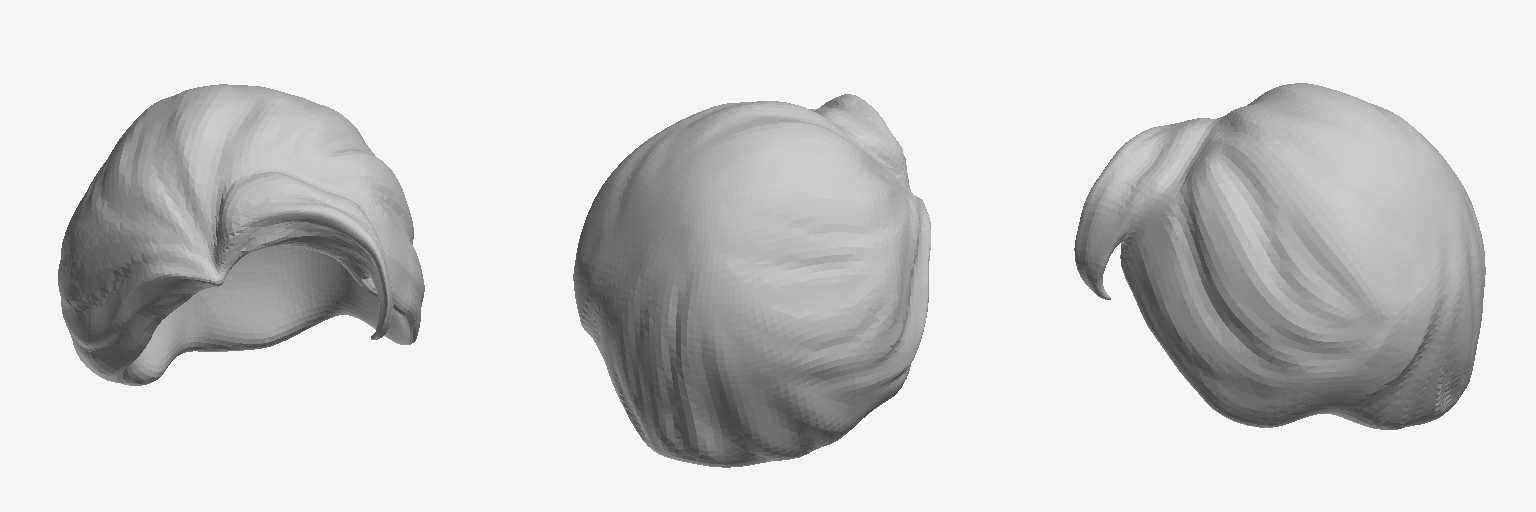
File: grandma_hair_block.OBJ
3 renders of one model, left to right at view 1: azimuth 30°, elevation 25°; view 2: azimuth 150°, elevation 25°; view 3: azimuth 270°, elevation 25°, orthographic.
Parts seen in each view (by area): view 1: ZBrushPolyMesh3D; view 2: ZBrushPolyMesh3D; view 3: ZBrushPolyMesh3D.
Part boxes in pixels (x1,y1,x2,y2): ZBrushPolyMesh3D: (58,84,424,385); ZBrushPolyMesh3D: (573,94,930,467); ZBrushPolyMesh3D: (1074,83,1485,429).
Bounding box in the file's own units: 0.3641 × 0.3348 × 0.4142.